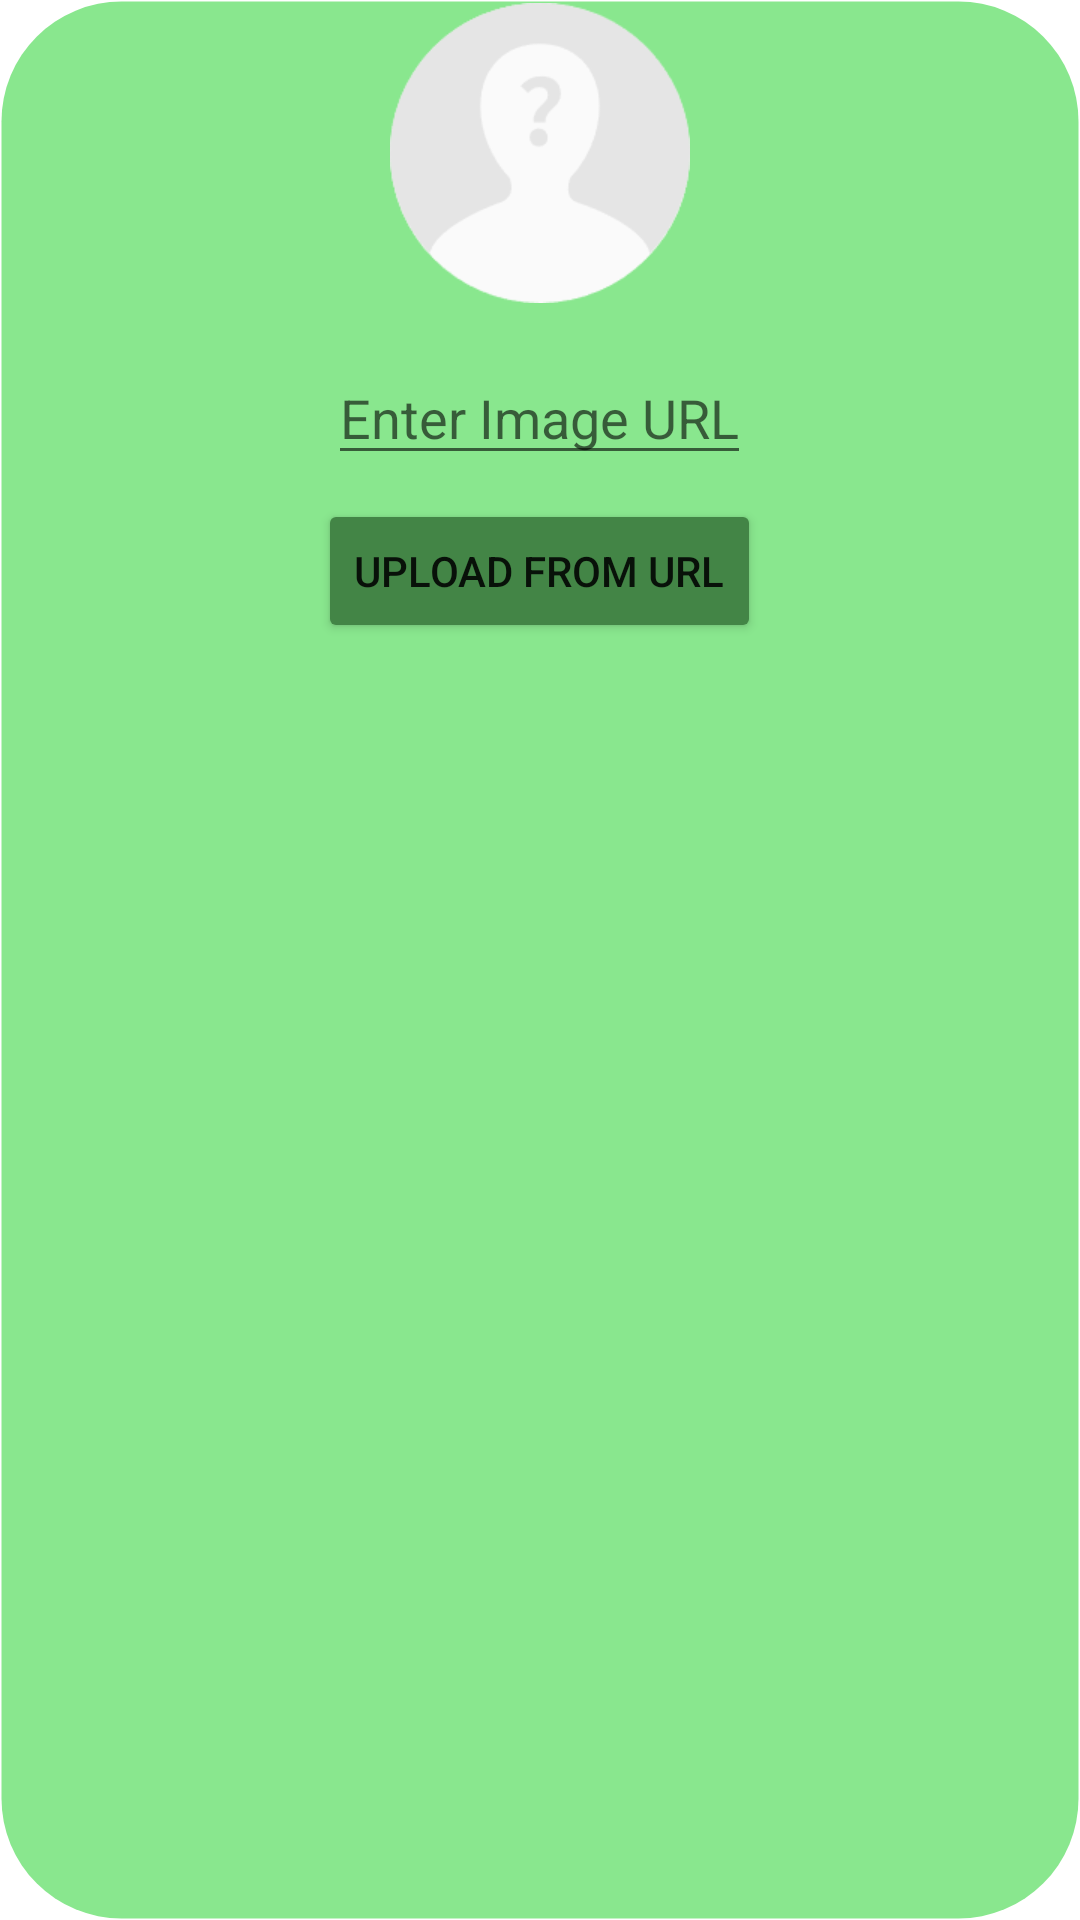

Named icons in this screenshot (1080x1920) and their centers, point (x, y):
unknown user: point (540, 153)
